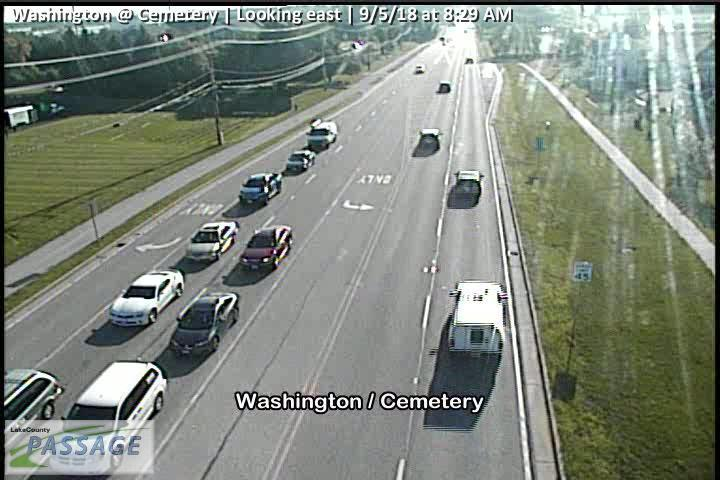SUV: (44, 360, 167, 480), (3, 367, 64, 453), (448, 280, 509, 355), (238, 173, 282, 207), (306, 119, 337, 150), (455, 170, 485, 197), (418, 126, 443, 152)
Sedan: (169, 291, 240, 358), (108, 268, 184, 327), (239, 224, 293, 271), (185, 220, 237, 261), (285, 148, 317, 172)
